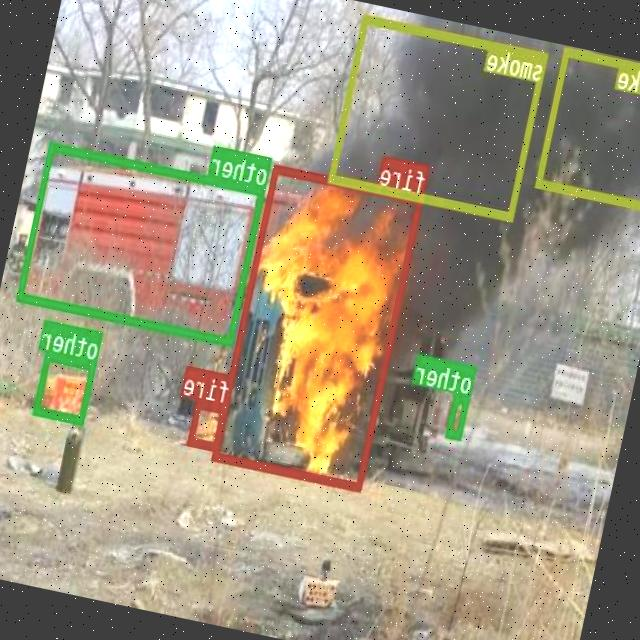fire: (213, 164, 424, 491), (188, 398, 229, 449)
smoke: (330, 13, 550, 220), (537, 46, 640, 209)
